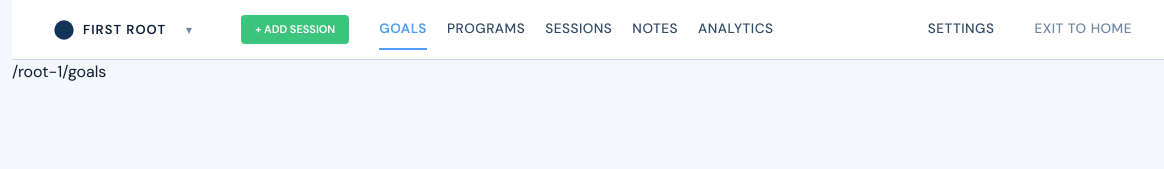
Test: NavigationHeader › opens a fractal dropdown from the root icon and name
What coordinates should you click on to do the following:
click the button "First Root ▾"
I would click on:
 (123, 30)
Its box is [44, 10, 201, 50].
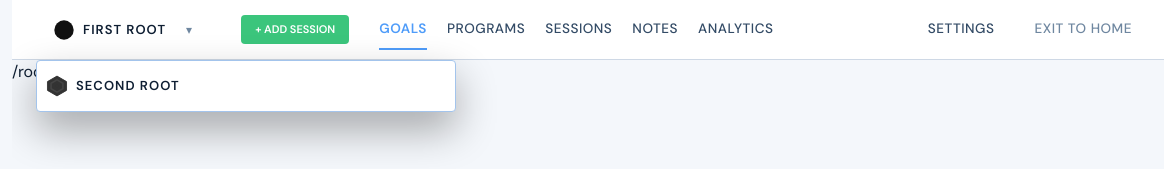
Now the menu named "available fractals" is shown, box [36, 60, 456, 112]
Now the menu item "Second Root" is shown, box [37, 66, 455, 106]
